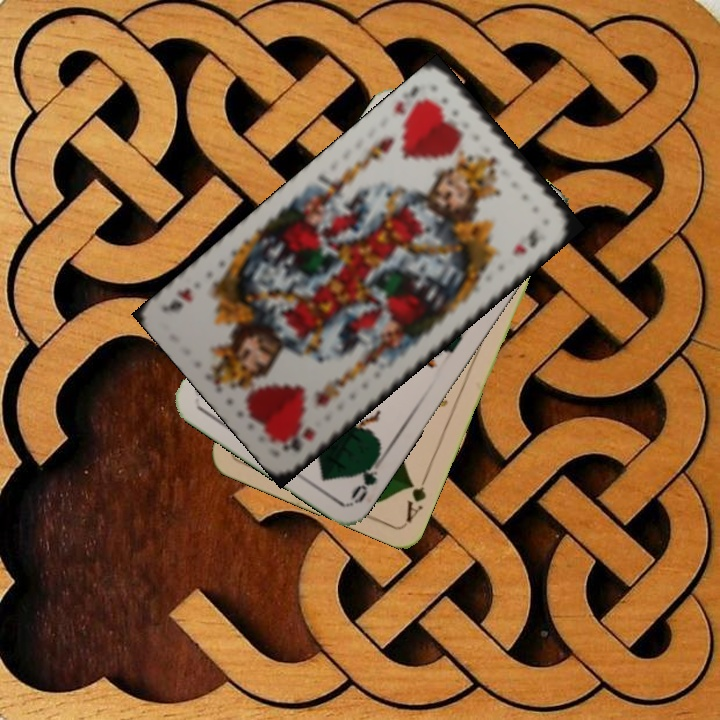GA: (401, 468, 432, 525)
GO: (346, 450, 388, 506)
HK: (278, 423, 319, 455), (389, 80, 422, 118)
